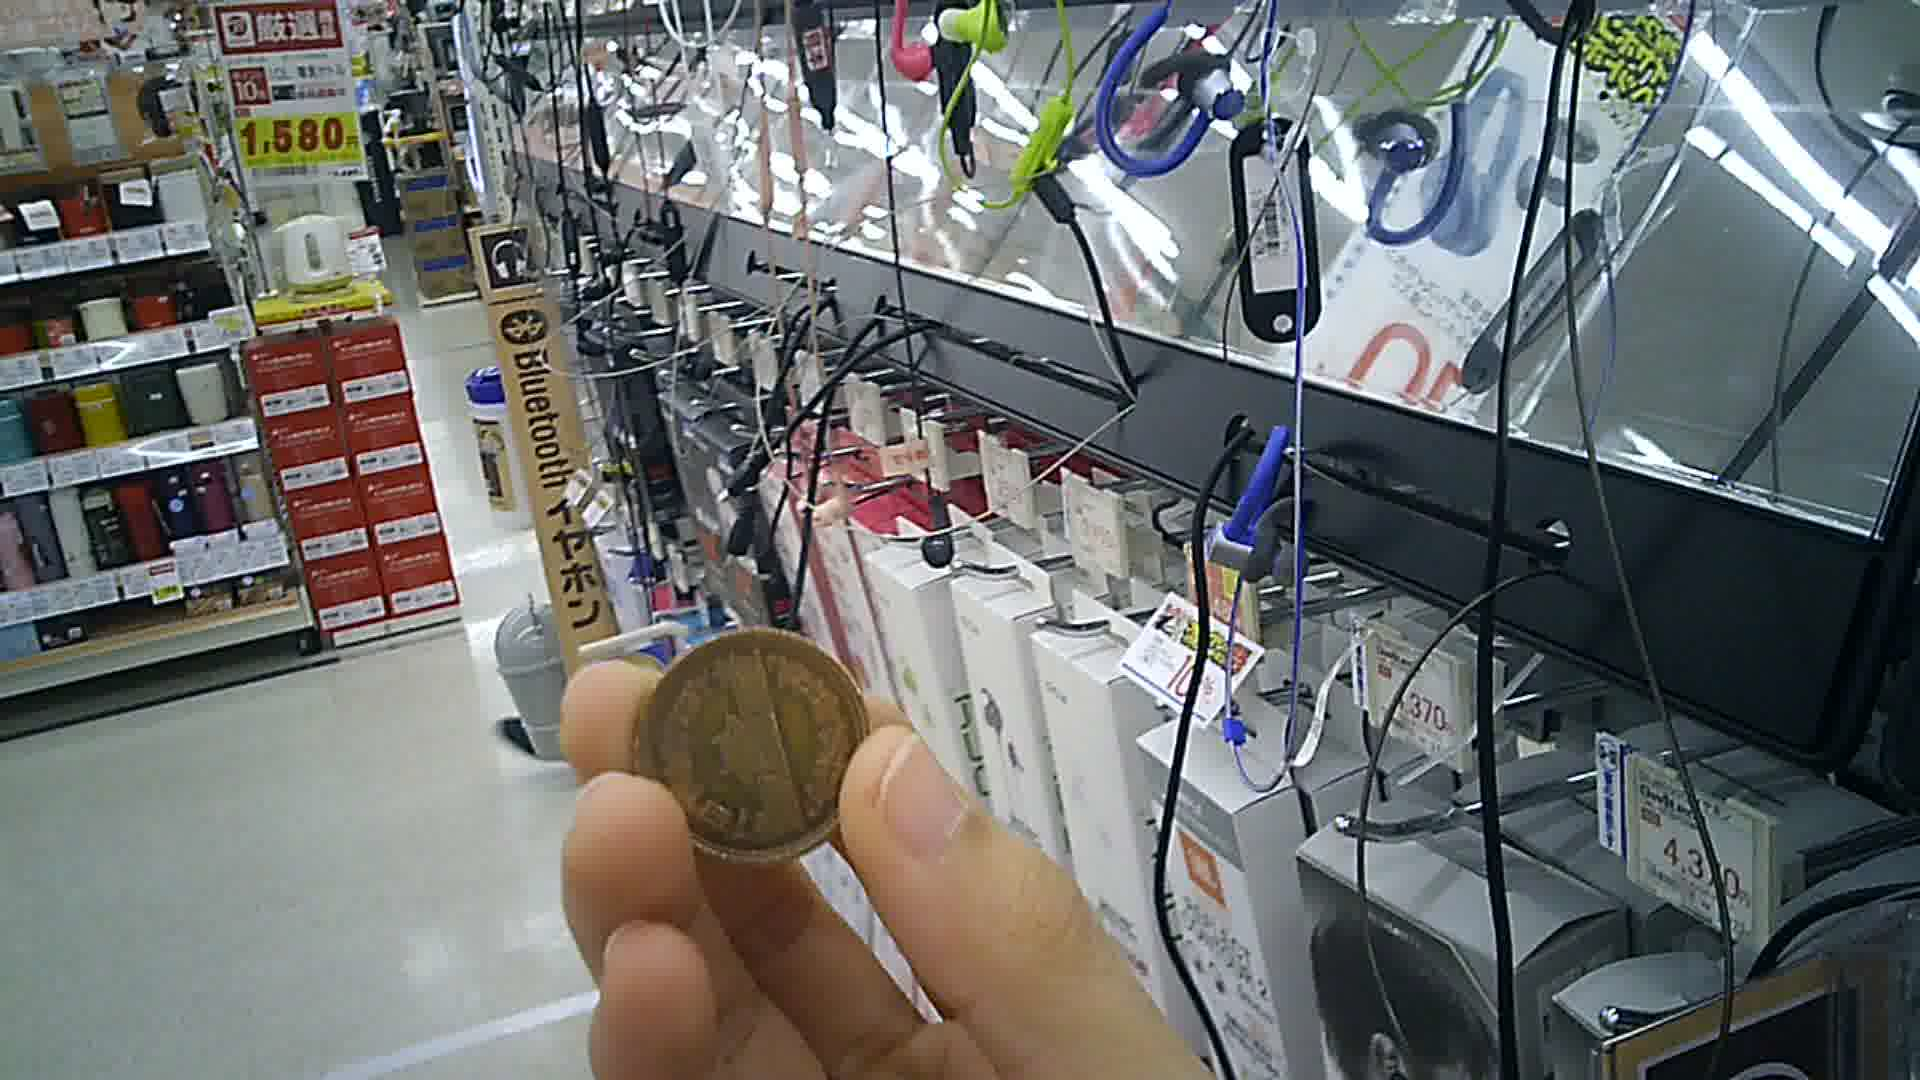10 Yen: (624, 630, 876, 862)
